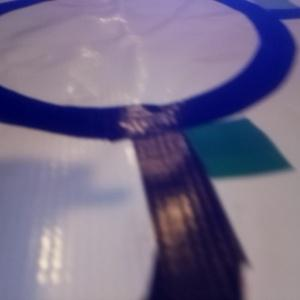bottom_right: (141, 116, 289, 177)
top_right: (239, 1, 300, 20)
